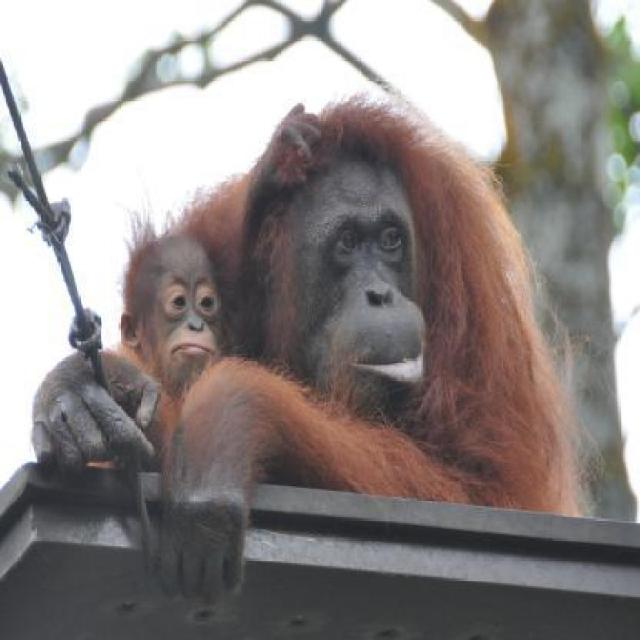Monkey: (118, 223, 244, 412)
